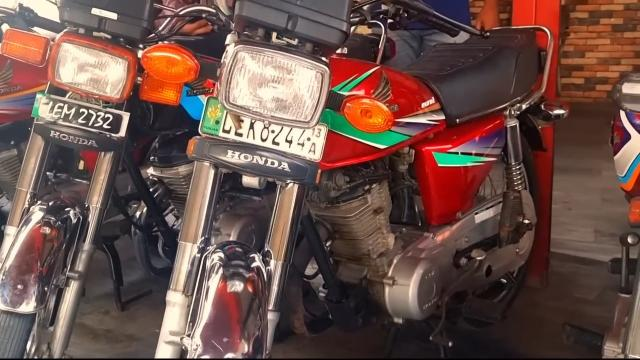plate: (199, 96, 330, 161), (32, 93, 131, 138)
